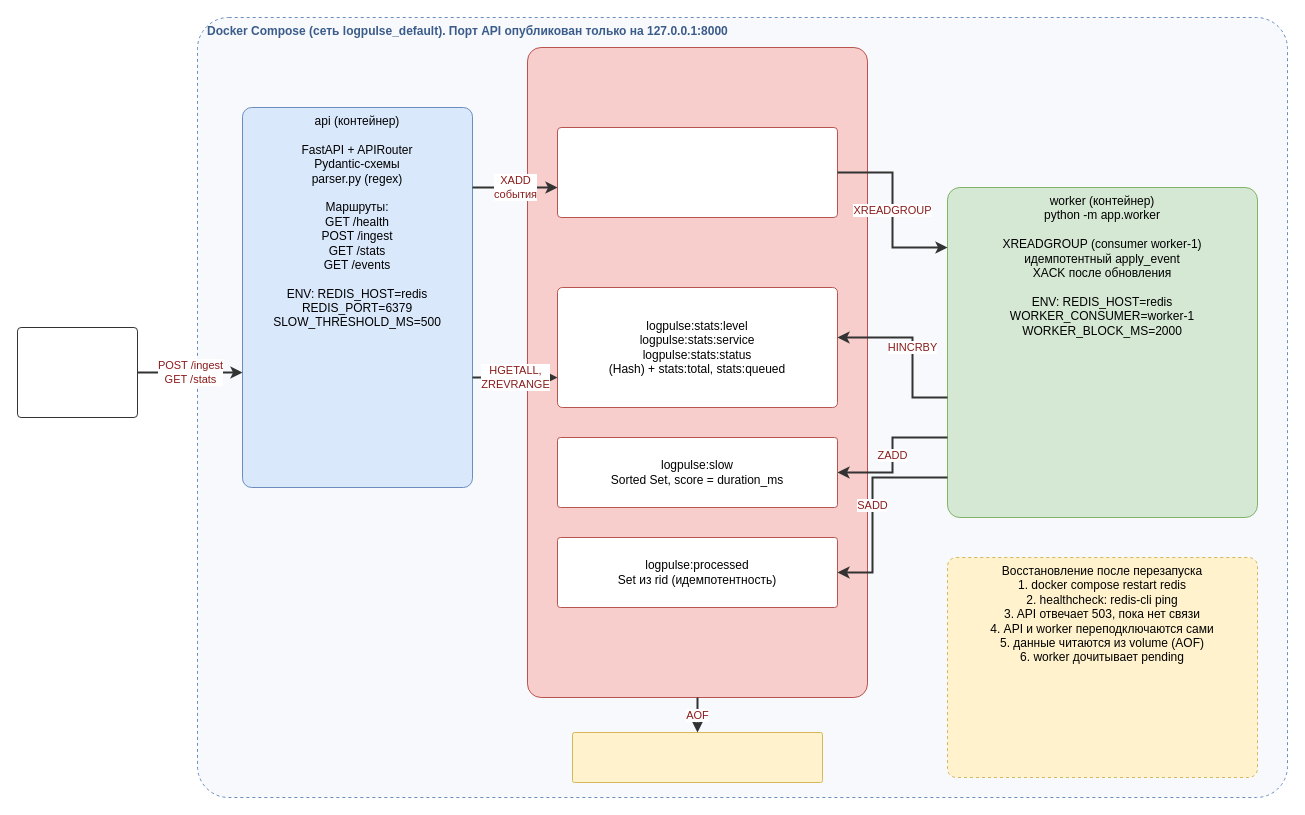
Image size: 1305x815. Some labels were removed from this diagram. Here are the shapes that lost their labels. From the top down, the box of each, then its label:
(556, 126, 838, 218): logpulse:events Stream, группа logpulse-workers
(16, 326, 138, 418): Клиент curl, Swagger, load_sample.py
(526, 46, 868, 698): redis (контейнер, redis:7-alpine) healthcheck: redis-cli ping appendonly yes
(572, 732, 822, 782): named volume redis-data (/data, AOF)
